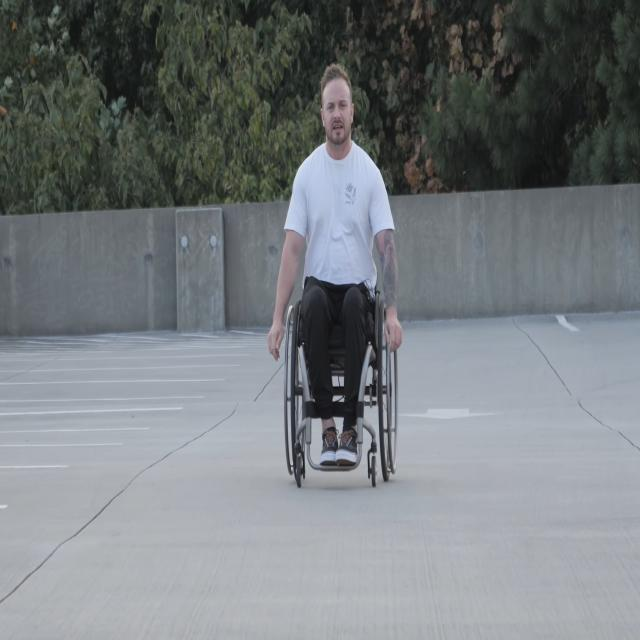wheelchairs: (283, 218, 397, 489)
